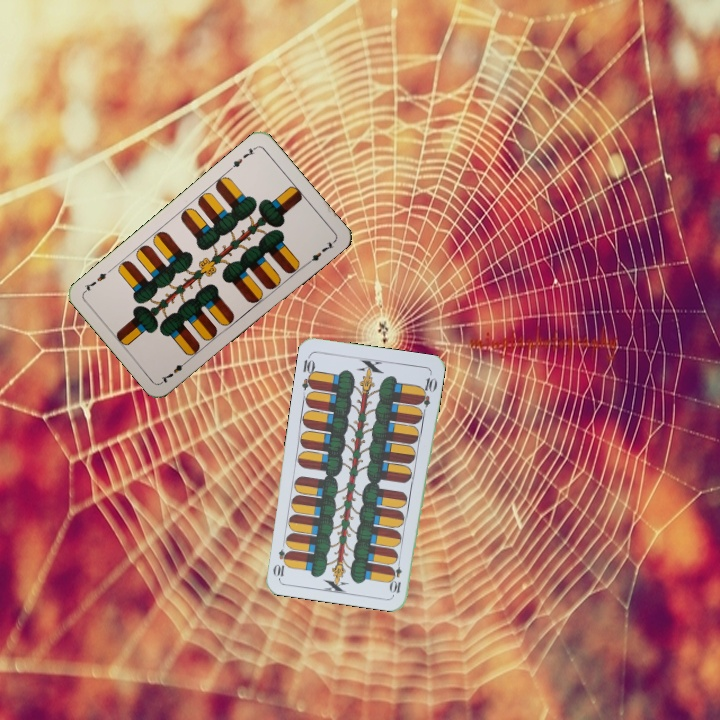E10: (298, 352, 318, 392), (388, 555, 404, 595)
E7: (157, 356, 192, 386), (225, 143, 259, 173)
